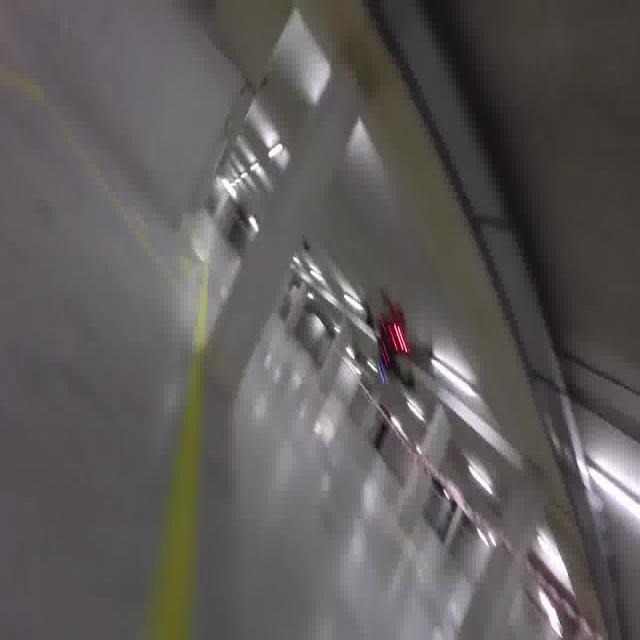drones: (351, 259, 430, 415)
